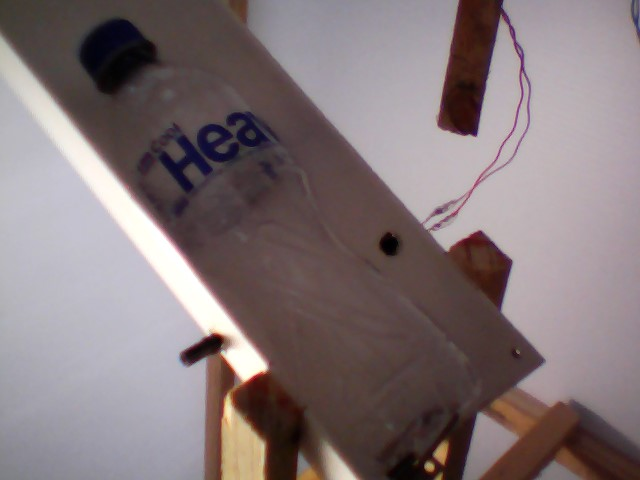plastico: (77, 13, 491, 472)
